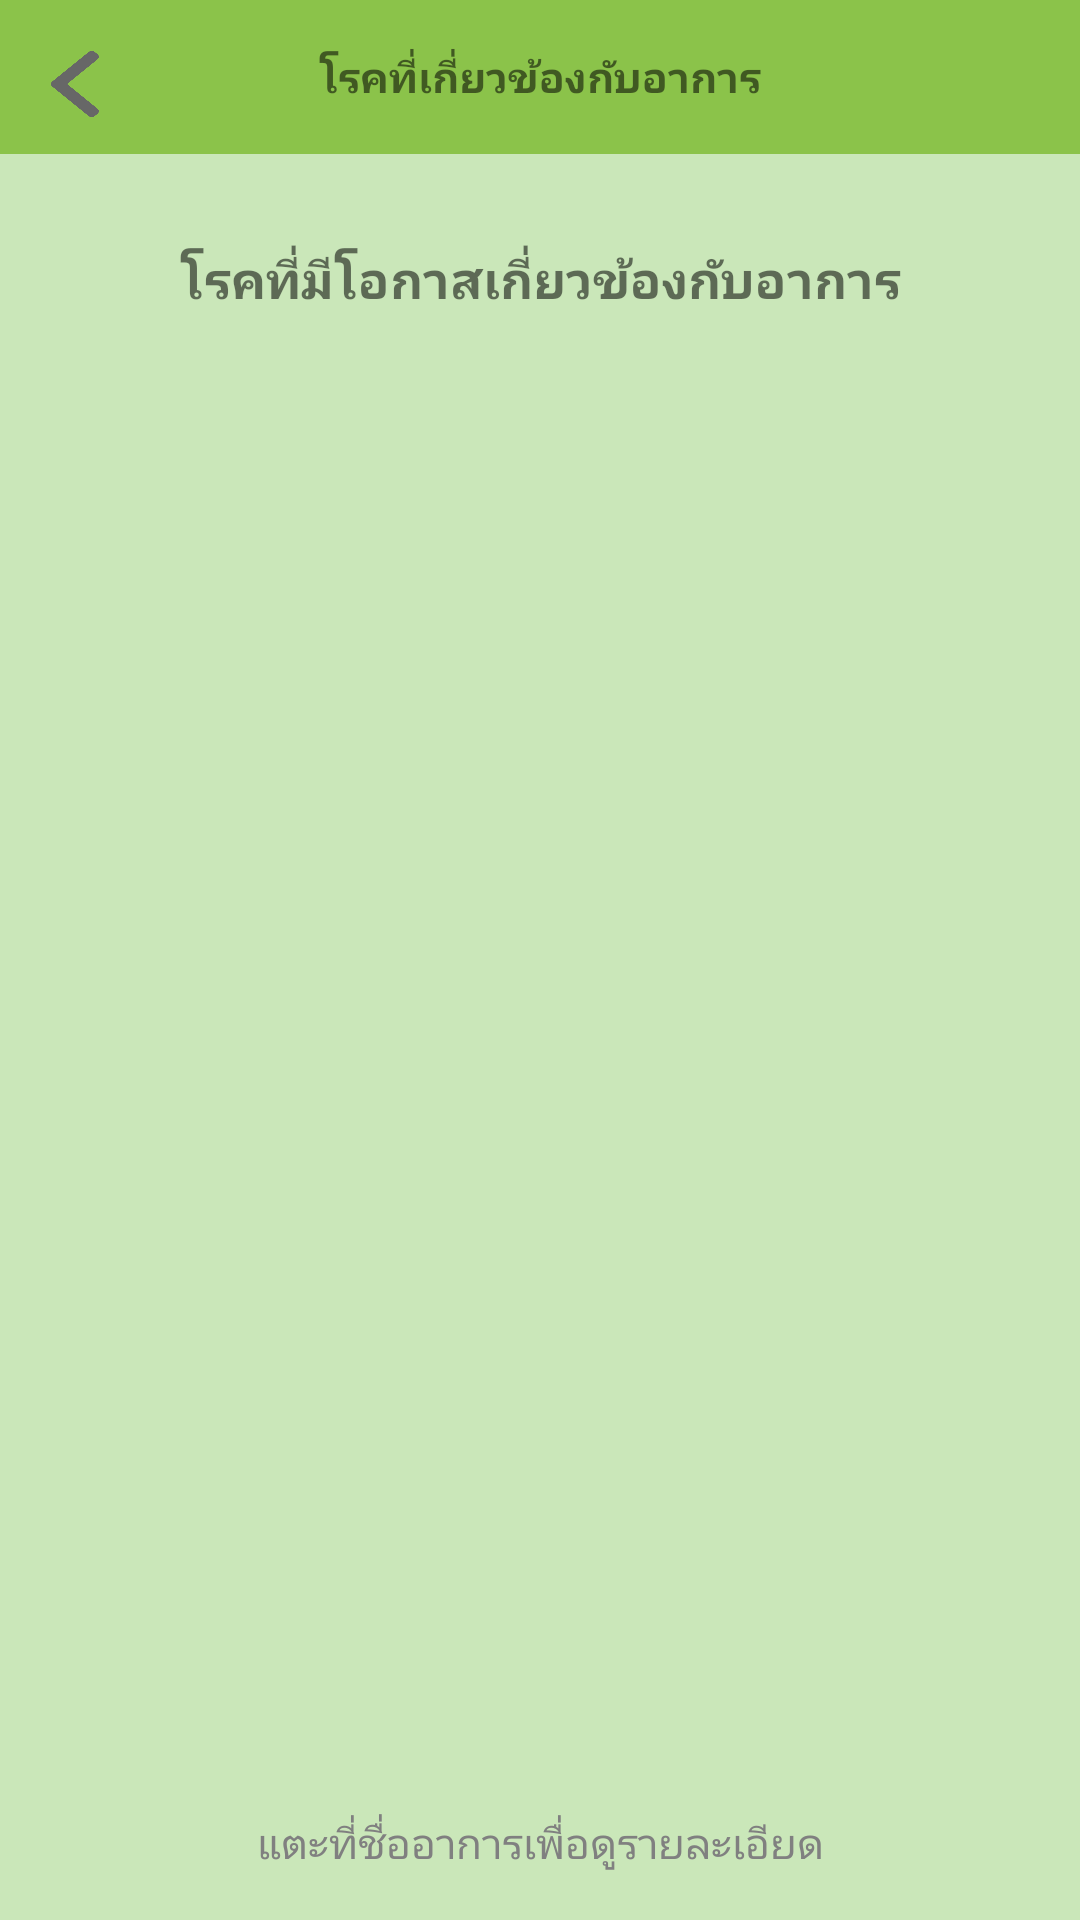

Named icons in this screenshot (1080 × 1920) and their bounding boxes, (x1, y1, x2, y2):
left arrow: (51, 51, 99, 117)
